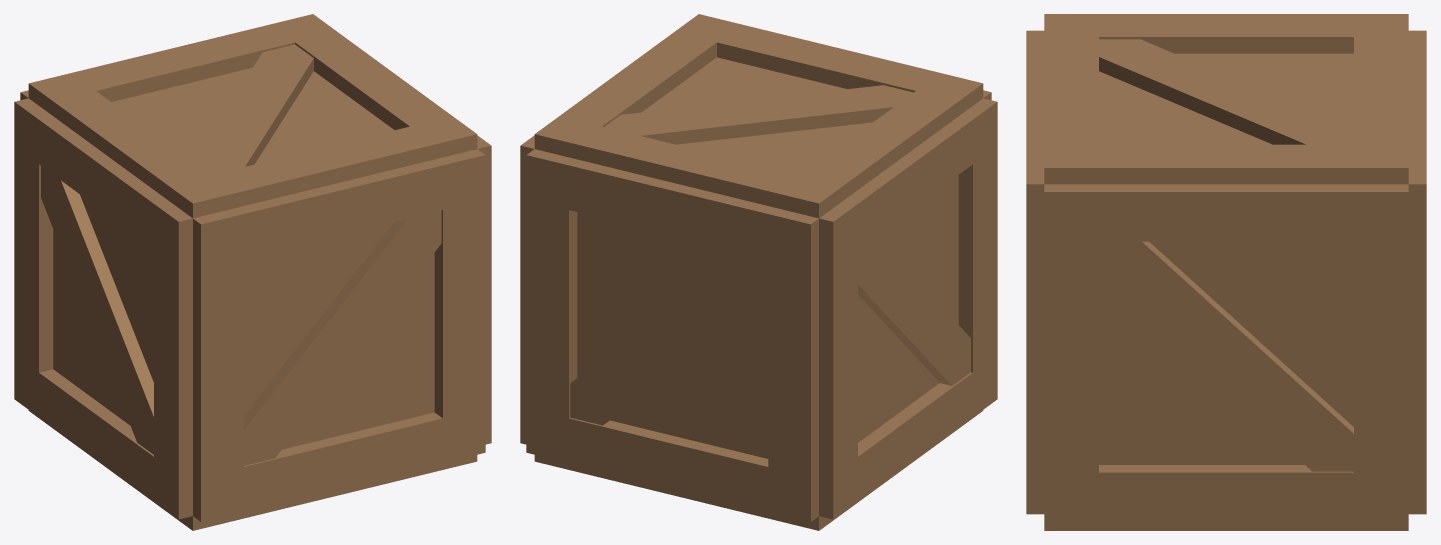
3 renders of one model, left to right at view 1: azimuth 30°, elevation 25°; view 2: azimuth 150°, elevation 25°; view 3: azimuth 270°, elevation 25°, orthographic. The views are drawn at different scales.
Parts seen in each view (by area): view 1: woodbox.001; view 2: woodbox.001; view 3: woodbox.001.
Boxes of the visible parts, x1=… form: woodbox.001: x1=14, y1=14, x2=491, y2=530; woodbox.001: x1=520, y1=14, x2=997, y2=530; woodbox.001: x1=1026, y1=14, x2=1426, y2=530.
Size of the model in its own units: 118 by 118 by 118.
